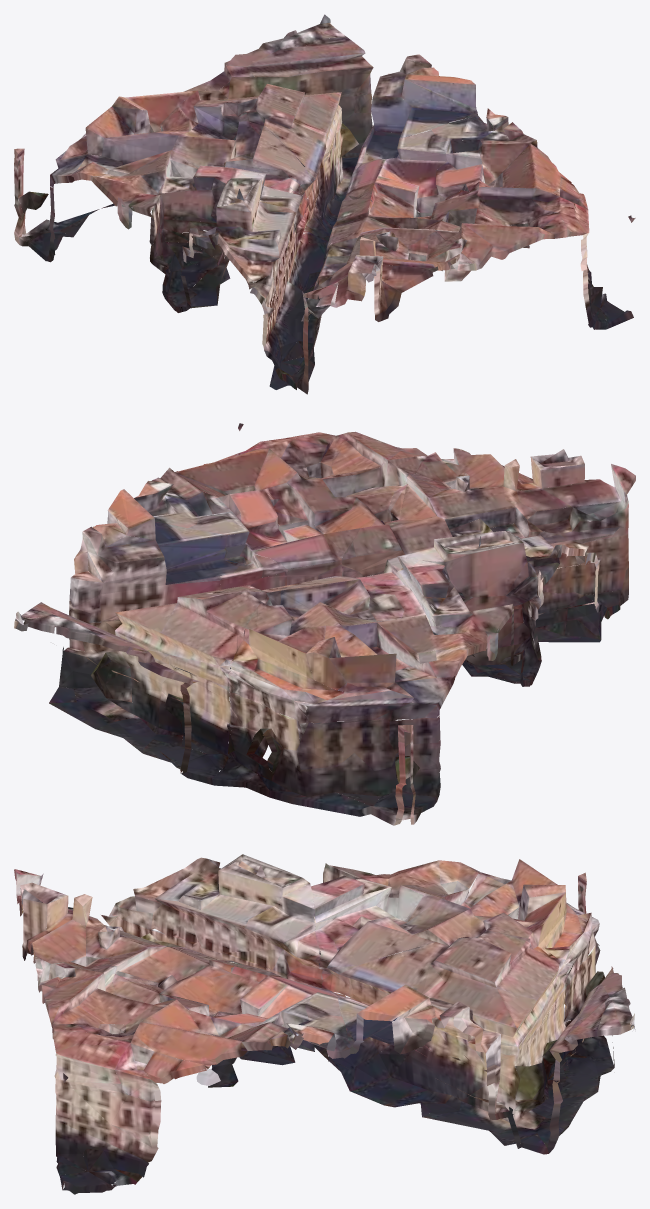
3 renders of one model, top to bottom at view 1: azimuth 30°, elevation 25°; view 2: azimuth 150°, elevation 25°; view 3: azimuth 270°, elevation 25°, orthographic. The views are drawn at different scales.
Parts seen in each view (by area): view 1: Mesh_0; view 2: Mesh_0; view 3: Mesh_0.
Boxes of the visible parts, x1,y1,x2,y2 form: Mesh_0: (14, 14, 635, 394); Mesh_0: (14, 423, 635, 825); Mesh_0: (14, 854, 635, 1194).
Bounding box in the file's own units: 67.48 × 24.81 × 82.47.
2 materials, 2 textured.
